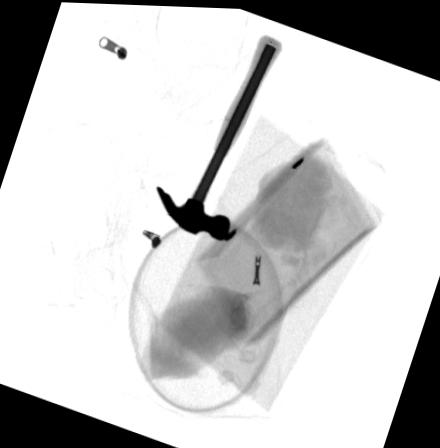Hammer: (158, 31, 283, 240)
